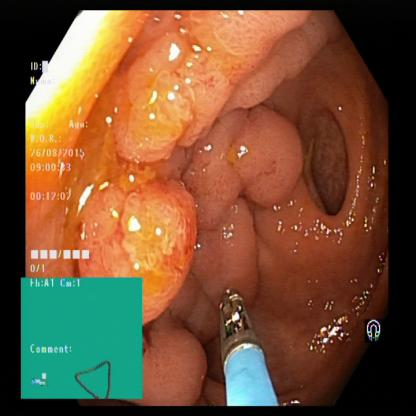Labels: (29, 54, 102, 280), (18, 276, 146, 400)
Polyps: (84, 172, 191, 309), (183, 120, 306, 219), (132, 41, 224, 150), (145, 321, 204, 406)
